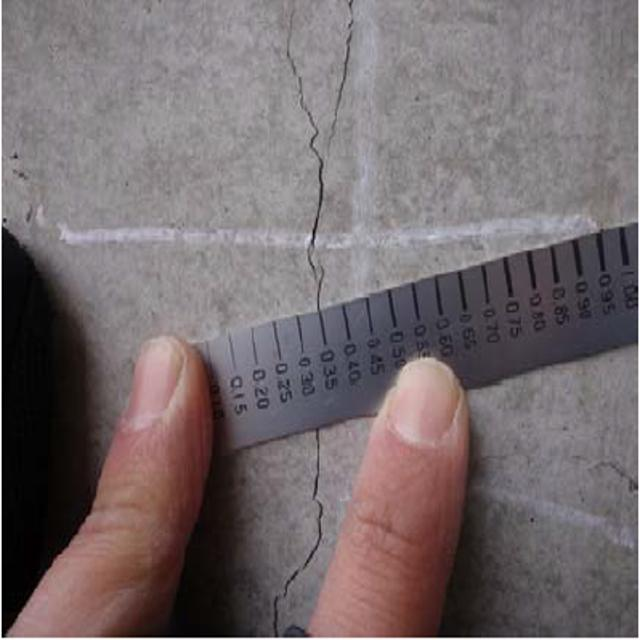crack: (280, 5, 367, 308), (257, 437, 339, 637)
